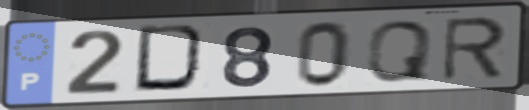0: (293, 18, 354, 90)
2: (64, 27, 129, 98)
8: (221, 25, 277, 89)
D: (131, 23, 214, 96)
Q: (363, 18, 436, 84)
R: (440, 14, 510, 83)
